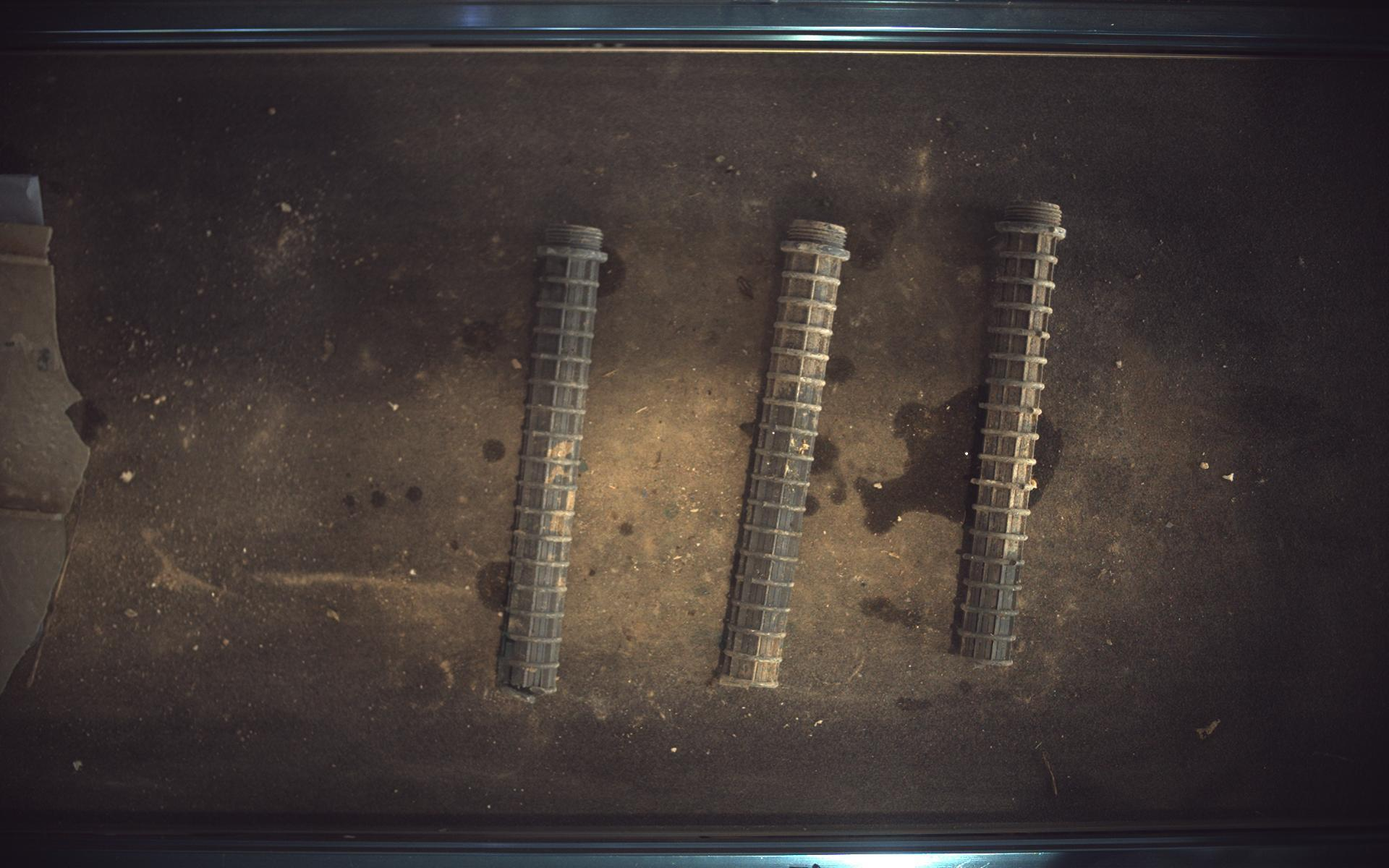plastic: (719, 218, 851, 689), (498, 224, 608, 695), (957, 200, 1068, 666)
